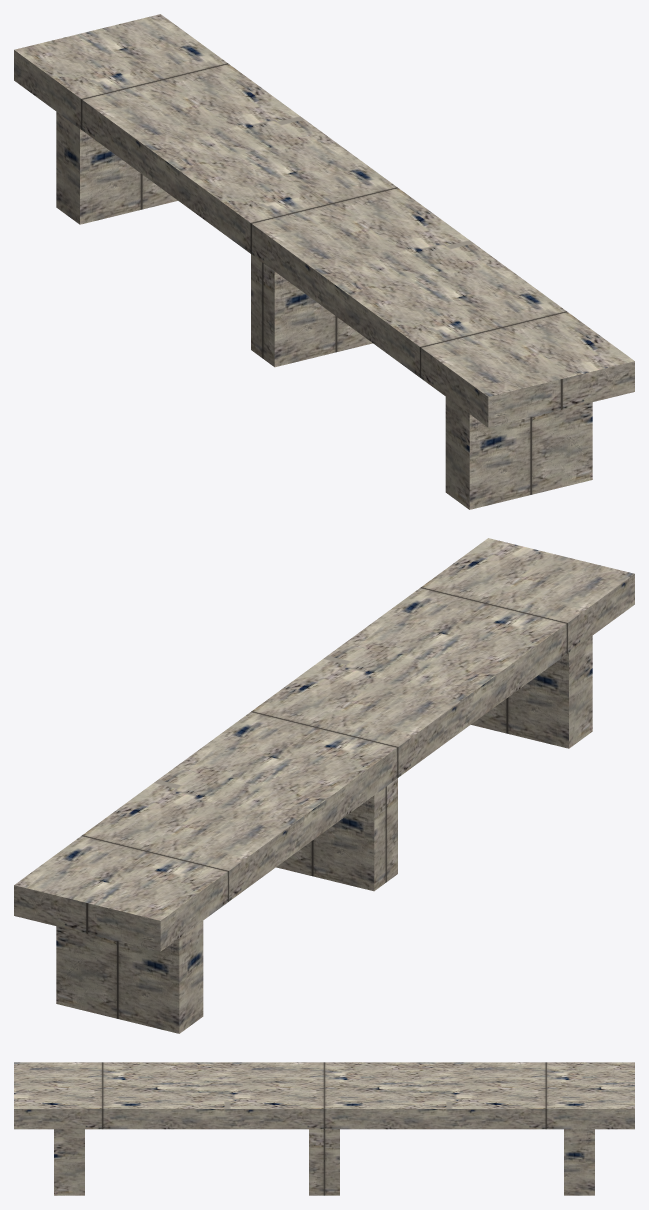
File: SM_Morin_Panchina_LOD2.fbx
The picture shows the model from 3 angles, top to bottom: view 1: azimuth 30°, elevation 25°; view 2: azimuth 150°, elevation 25°; view 3: azimuth 270°, elevation 25°; orthographic projection. The views are drawn at different scales.
Parts seen in each view (by area): view 1: SM_Morin_Panchina_LOD2; view 2: SM_Morin_Panchina_LOD2; view 3: SM_Morin_Panchina_LOD2.
Boxes of the visible parts, x1,y1,x2,y2 form: SM_Morin_Panchina_LOD2: [14, 14, 634, 509]; SM_Morin_Panchina_LOD2: [14, 538, 634, 1033]; SM_Morin_Panchina_LOD2: [14, 1062, 634, 1195].
Size of the model in its own units: 50 by 280 by 45.
1 material, 1 textured.
